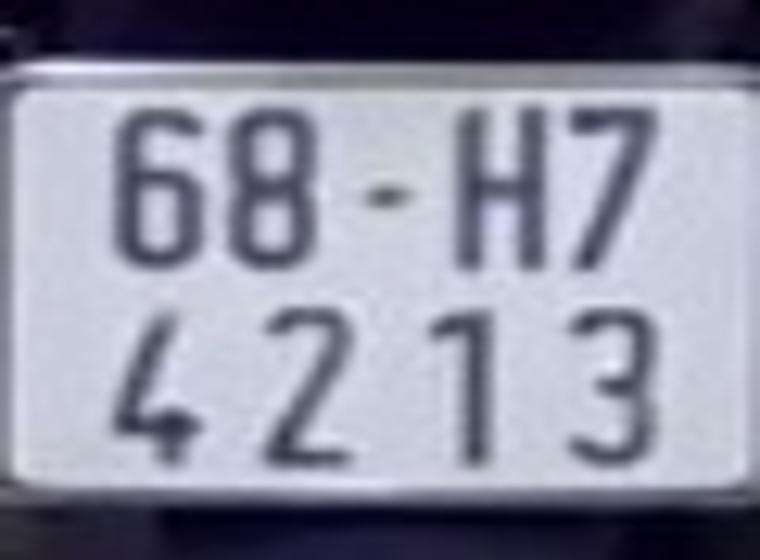-: (360, 180, 420, 218)
1: (420, 308, 504, 473)
2: (258, 295, 370, 478)
3: (563, 300, 664, 473)
4: (119, 308, 214, 479)
6: (109, 107, 210, 267)
7: (569, 95, 646, 279)
8: (228, 104, 324, 273)
H: (454, 106, 558, 279)
